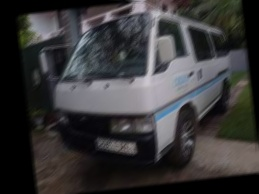van: (41, 0, 241, 176)
